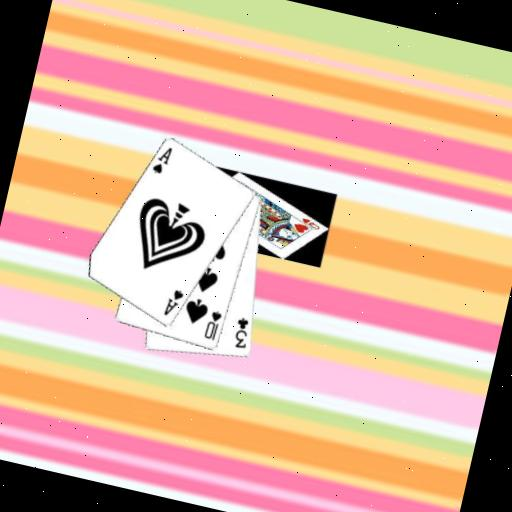10S: (201, 307, 225, 344)
3C: (229, 314, 255, 352)
AS: (148, 141, 175, 178), (161, 285, 187, 320)
